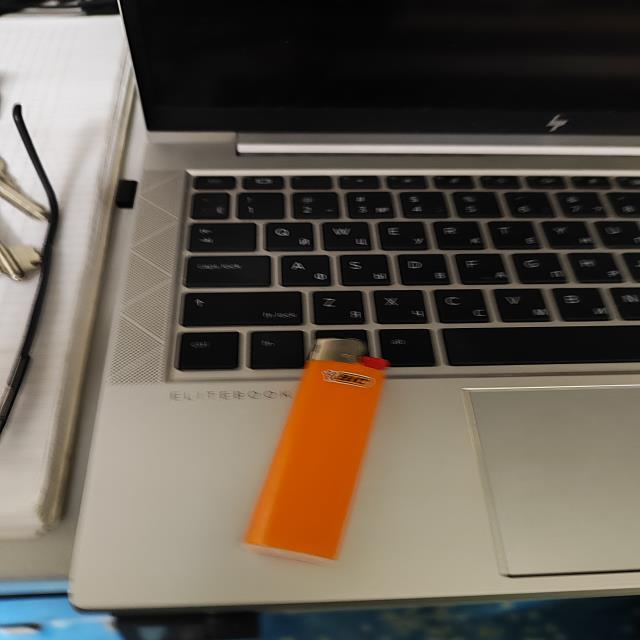lighter: (244, 339, 387, 559)
